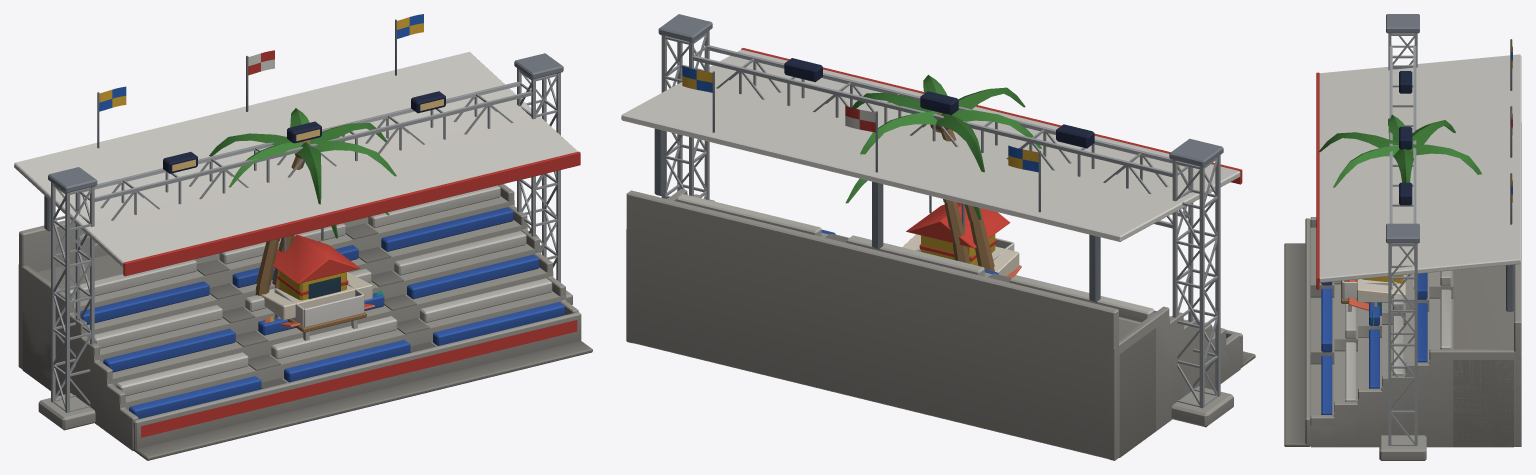
The model's file is env_trackside.glb.
3 renders of one model, left to right at view 1: azimuth 30°, elevation 25°; view 2: azimuth 150°, elevation 25°; view 3: azimuth 270°, elevation 25°, orthographic. The views are drawn at different scales.
Visible parts, largest first — view 1: ts_stand, ts_gantry, cs_lifeguard, cs_palm_b, cs_shack; view 2: ts_stand, ts_gantry, cs_palm_b, cs_lifeguard, cs_palm_a, cs_shack; view 3: ts_stand, ts_gantry, cs_palm_b, cs_shack, cs_lifeguard.
Boxes of the visible parts, x1=… form: ts_stand: x1=14, y1=14, x2=592, y2=460; ts_gantry: x1=38, y1=53, x2=572, y2=430; cs_lifeguard: x1=272, y1=228, x2=366, y2=340; cs_palm_b: x1=209, y1=108, x2=396, y2=295; cs_shack: x1=261, y1=272, x2=383, y2=327; ts_stand: x1=621, y1=48, x2=1255, y2=460; ts_gantry: x1=658, y1=14, x2=1233, y2=427; cs_palm_b: x1=852, y1=75, x2=1042, y2=271; cs_lifeguard: x1=906, y1=195, x2=1014, y2=265; cs_palm_a: x1=845, y1=178, x2=981, y2=263; cs_shack: x1=902, y1=234, x2=1021, y2=277; ts_stand: x1=1284, y1=39, x2=1521, y2=447; ts_gantry: x1=1379, y1=14, x2=1426, y2=460; cs_palm_b: x1=1319, y1=114, x2=1481, y2=187; cs_shack: x1=1348, y1=275, x2=1405, y2=325; cs_lifeguard: x1=1341, y1=275, x2=1403, y2=311.
Bounding box in the file's own units: 20.6 × 10.05 × 9.
